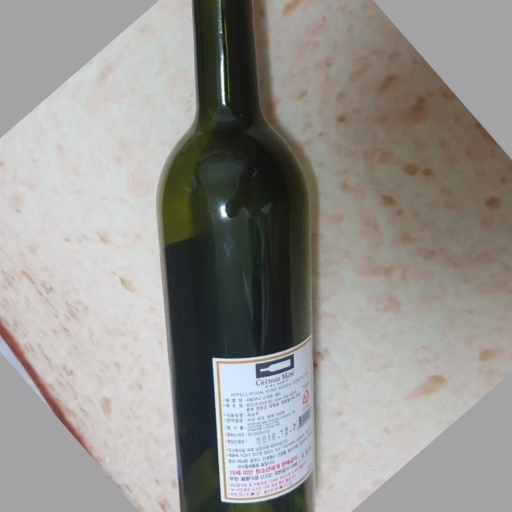Glass_2: (156, 1, 318, 512)
